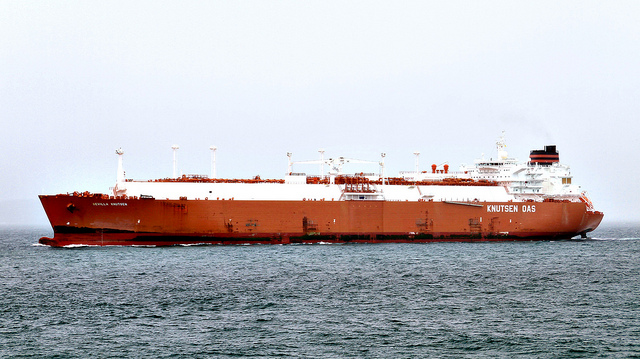LNG_ship: (32, 135, 609, 247)
